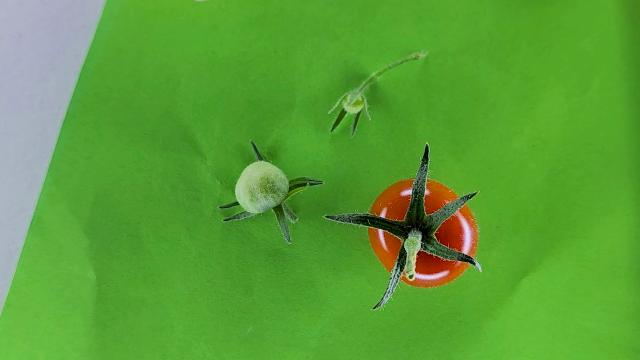Fruit Bud: (344, 93, 365, 114)
Fruit Maturation: (235, 160, 290, 214)
Fully Grown: (364, 177, 481, 290)
